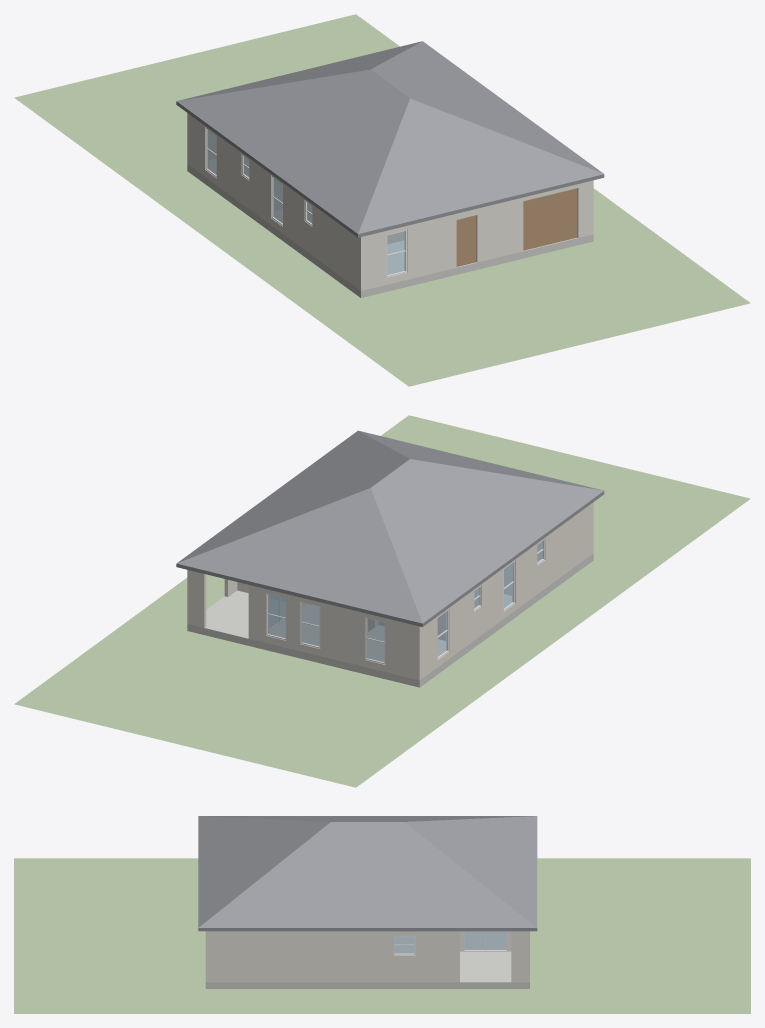
3 renders of one model, top to bottom at view 1: azimuth 30°, elevation 25°; view 2: azimuth 150°, elevation 25°; view 3: azimuth 270°, elevation 25°, orthographic. The views are drawn at different scales.
Visible parts, largest first — view 1: Lot, Hip roof, Wall ext-front, Wall ext-left, Floor First Floor, Door GD, Door D01, Window N06; view 2: Lot, Hip roof, Wall ext-back, Wall ext-left, Floor First Floor, Window N03, Window N02, Window N01; view 3: Lot, Hip roof, Wall ext-right, Floor First Floor, Door D13, Window N05.
Part boxes in pixels (left/top/right/bottom): Lot: left=14, top=14, right=750, bottom=386; Hip roof: left=176, top=41, right=604, bottom=237; Wall ext-front: left=359, top=180, right=593, bottom=290; Wall ext-left: left=189, top=114, right=358, bottom=289; Floor First Floor: left=187, top=159, right=593, bottom=297; Door GD: left=523, top=188, right=577, bottom=250; Door D01: left=456, top=215, right=476, bottom=266; Window N06: left=387, top=231, right=404, bottom=274; Lot: left=14, top=415, right=750, bottom=787; Hip roof: left=176, top=430, right=604, bottom=626; Wall ext-back: left=187, top=570, right=421, bottom=680; Wall ext-left: left=421, top=504, right=591, bottom=678; Floor First Floor: left=187, top=553, right=593, bottom=687; Window N03: left=367, top=618, right=384, bottom=662; Window N02: left=268, top=594, right=285, bottom=638; Window N01: left=302, top=602, right=319, bottom=646; Lot: left=14, top=858, right=750, bottom=1013; Hip roof: left=198, top=816, right=537, bottom=931; Wall ext-right: left=209, top=931, right=526, bottom=982; Floor First Floor: left=205, top=931, right=529, bottom=988; Door D13: left=464, top=931, right=506, bottom=949; Window N05: left=394, top=936, right=414, bottom=953.
Bounding box in the file's own units: 15.24 × 5.21 × 30.48.
